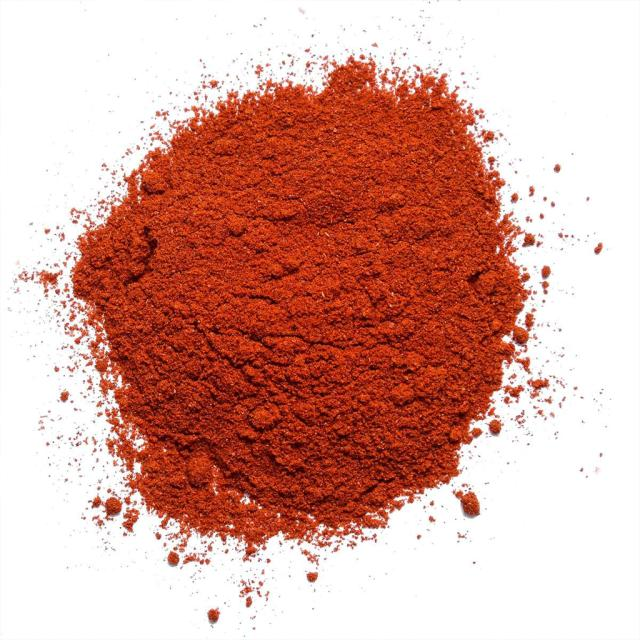Paprika: (44, 27, 558, 581)
